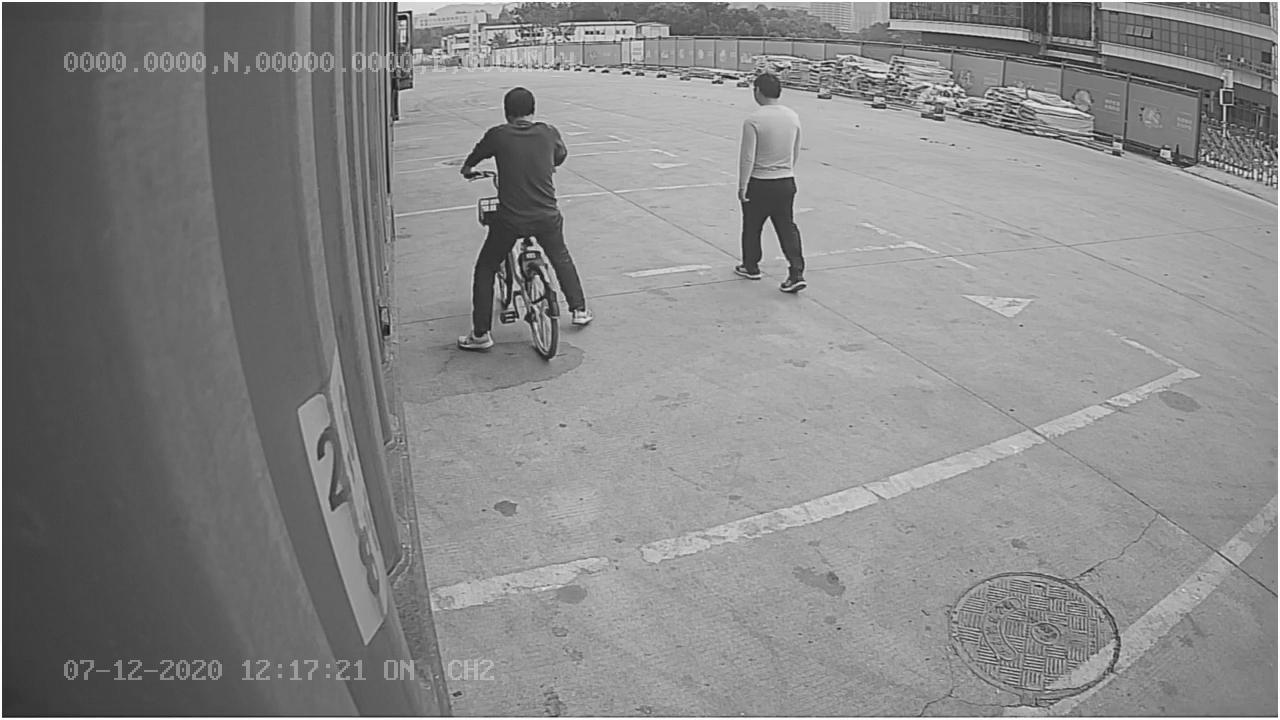person: (729, 61, 816, 301)
